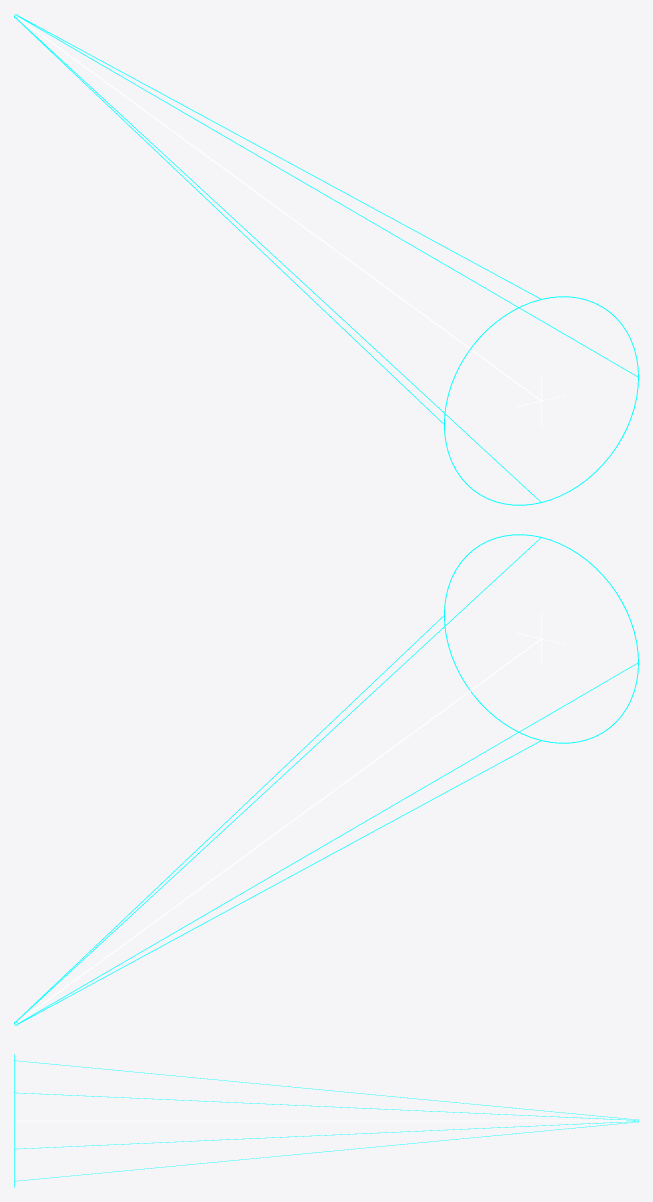
Rendered from nadir_beam_geo.glb.
3 views of the same model, one above another, from view 1: azimuth 30°, elevation 25°; view 2: azimuth 150°, elevation 25°; view 3: azimuth 270°, elevation 25° (orthographic). The views are drawn at different scales.
Parts seen in each view (by area): view 1: HolographicNadirCageNode; view 2: HolographicNadirCageNode; view 3: HolographicNadirCageNode.
Part boxes in pixels (<box>): HolographicNadirCageNode: <box>14,14,638,505</box>; HolographicNadirCageNode: <box>14,534,638,1025</box>; HolographicNadirCageNode: <box>14,1054,638,1187</box>.
Size of the model in its own units: 9.64 by 9.64 by 45.04.
